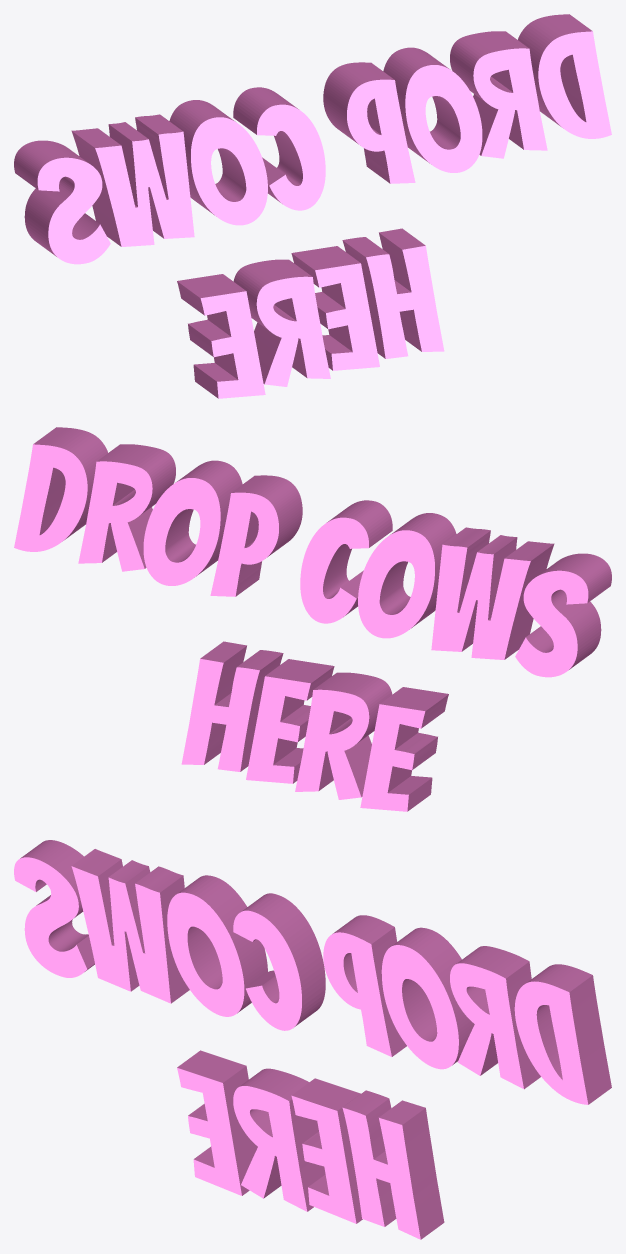
Rendered from text-drop.glb.
3 renders of one model, top to bottom at view 1: azimuth 30°, elevation 25°; view 2: azimuth 150°, elevation 25°; view 3: azimuth 330°, elevation 25°, orthographic.
Visible parts, largest first — view 1: Face, Side; view 2: Face, Side; view 3: Face, Side.
Boxes of the visible parts, left/top/right/bottom form: Face: left=37, top=31, right=611, bottom=398; Side: left=14, top=14, right=592, bottom=398; Face: left=14, top=444, right=588, bottom=811; Side: left=33, top=427, right=611, bottom=811; Face: left=14, top=857, right=588, bottom=1239; Side: left=20, top=840, right=611, bottom=1239.
Size of the model in its own units: 3.94 by 1.9 by 0.28.
